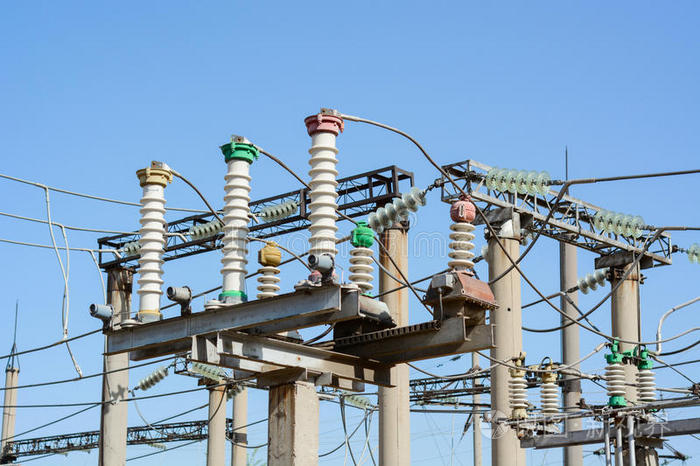insulator: (365, 188, 426, 232), (486, 167, 549, 196), (593, 208, 643, 236), (262, 201, 300, 219), (576, 271, 606, 293), (140, 368, 167, 391), (191, 362, 225, 380), (190, 223, 223, 239), (347, 395, 370, 408), (123, 240, 141, 255)
